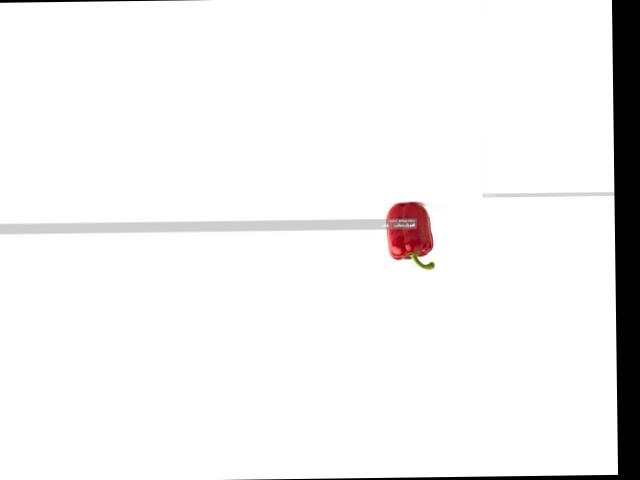bell_pepper: (382, 203, 441, 273)
